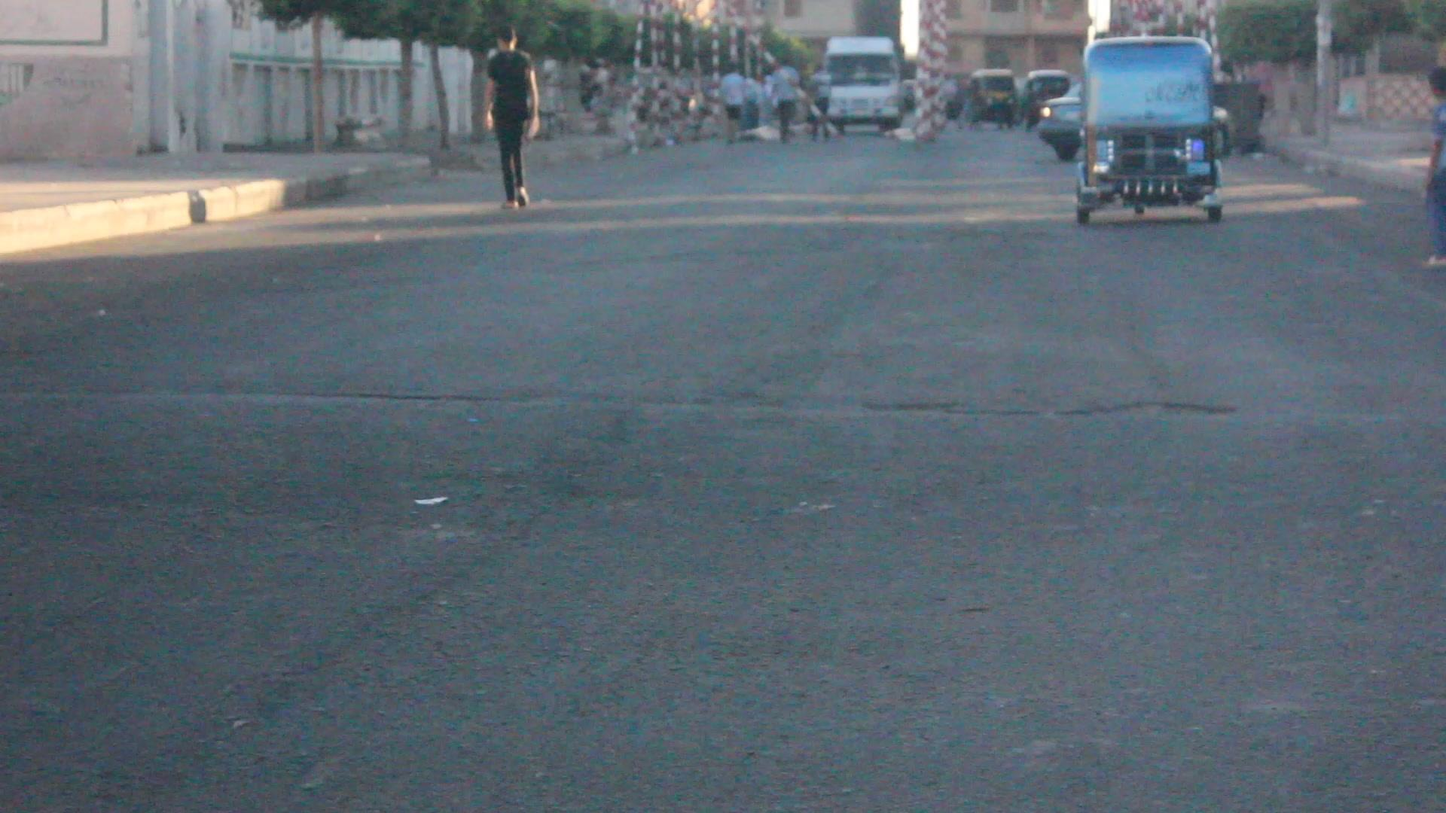Bump: (4, 390, 1446, 540)
Pothole: (731, 367, 1250, 423)
